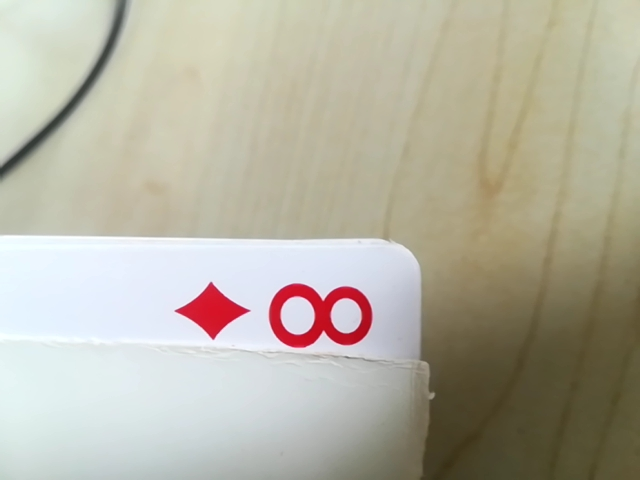fk 8: (158, 258, 395, 376)
